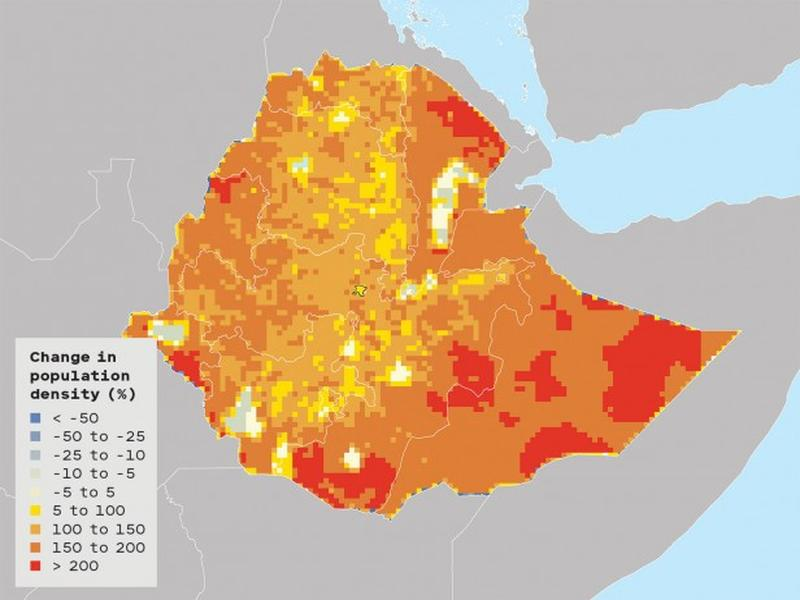legend: (14, 335, 159, 588)
